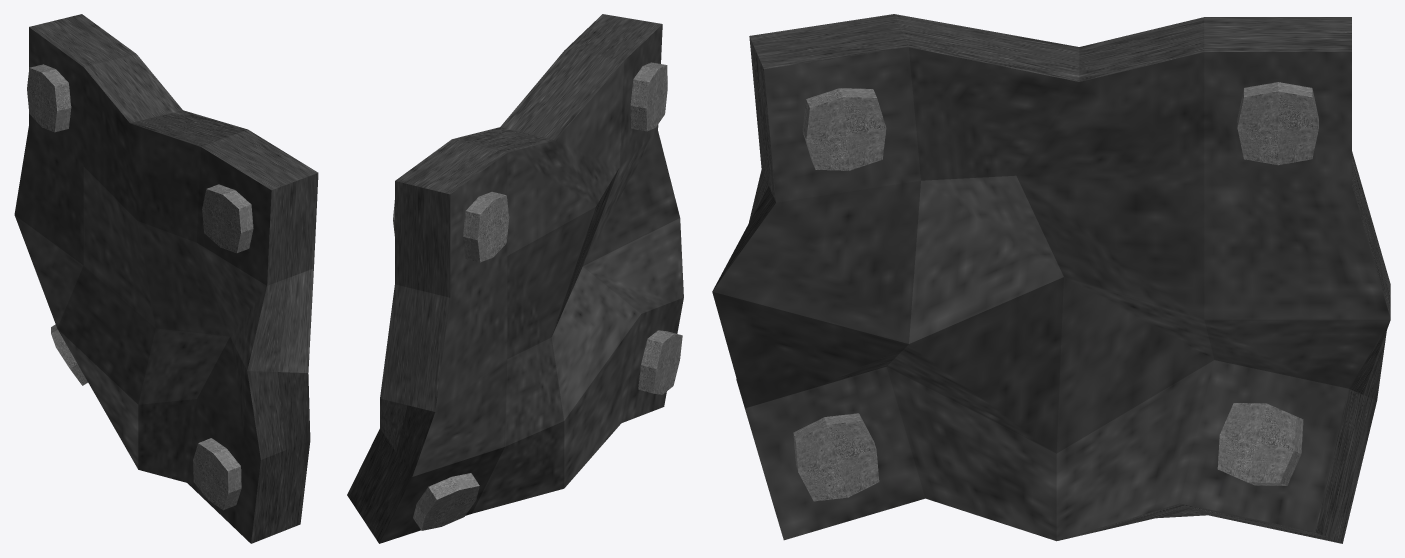
Rendered from Scrap2.fbx.
3 renders of one model, left to right at view 1: azimuth 30°, elevation 25°; view 2: azimuth 150°, elevation 25°; view 3: azimuth 270°, elevation 25°, orthographic. The views are drawn at different scales.
Parts seen in each view (by area): view 1: Scrap2; view 2: Scrap2; view 3: Scrap2.
Boxes of the visible parts, left/top/right/bottom form: Scrap2: left=14, top=14, right=318, bottom=543; Scrap2: left=347, top=14, right=683, bottom=543; Scrap2: left=712, top=14, right=1390, bottom=543.
Size of the model in its own units: 68.85 by 185 by 230.
